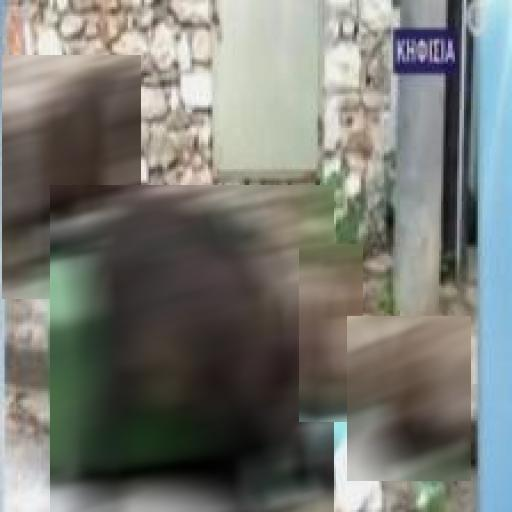Pig: (50, 185, 334, 512), (2, 55, 141, 299), (347, 316, 471, 481), (300, 244, 364, 422)
